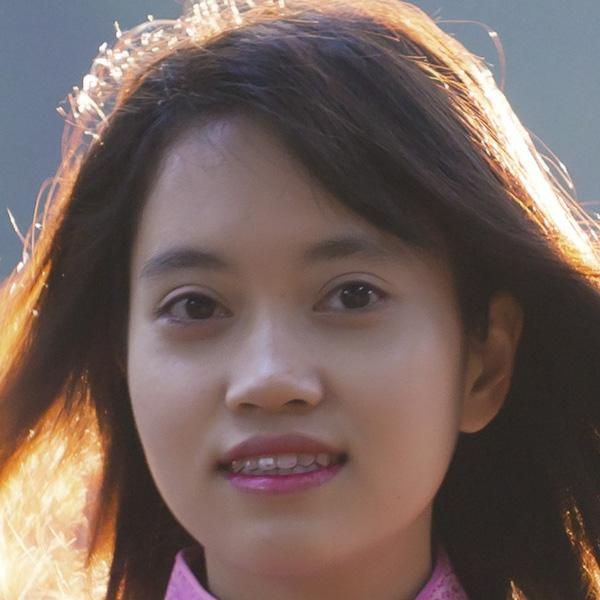Eyes: (299, 266, 400, 328), (149, 279, 241, 335)
